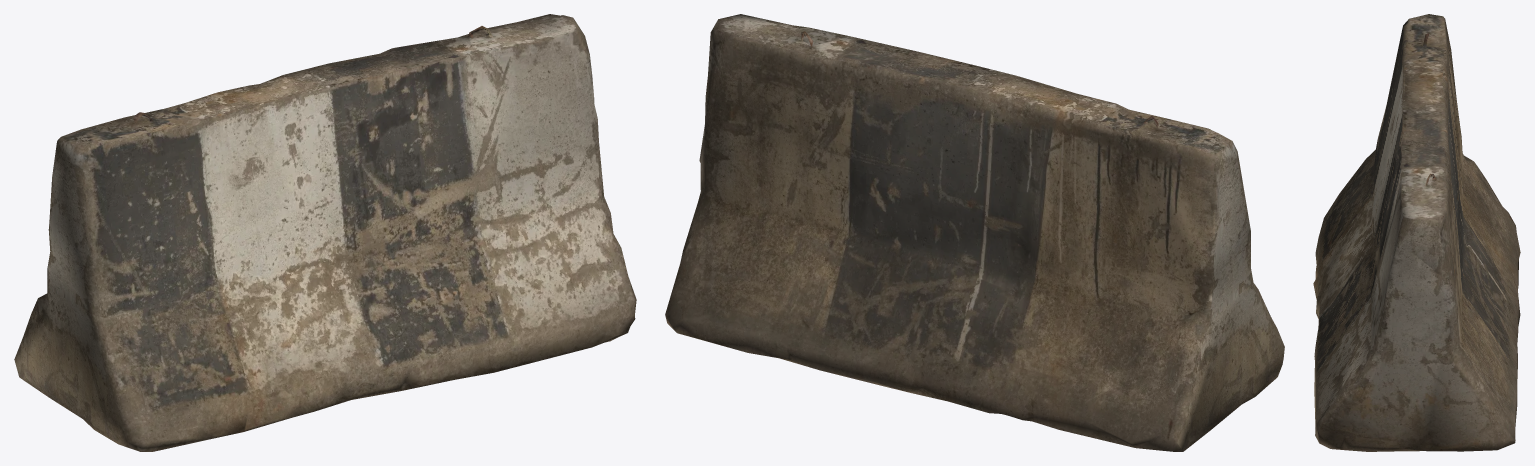
File: concrete_road_barrier.glb
3 views of the same model, side by side, from view 1: azimuth 30°, elevation 25°; view 2: azimuth 150°, elevation 25°; view 3: azimuth 270°, elevation 25° (orthographic). The views are drawn at different scales.
Visible parts, largest first — view 1: concrete_road_barrier; view 2: concrete_road_barrier; view 3: concrete_road_barrier.
Part boxes in pixels (x1,y1,x2,y2): concrete_road_barrier: (14, 14, 636, 451); concrete_road_barrier: (665, 14, 1284, 451); concrete_road_barrier: (1313, 14, 1520, 451).
Size of the model in its own units: 1.54 by 0.8249 by 0.6379.
Materials: 1 (1 with a texture image).
